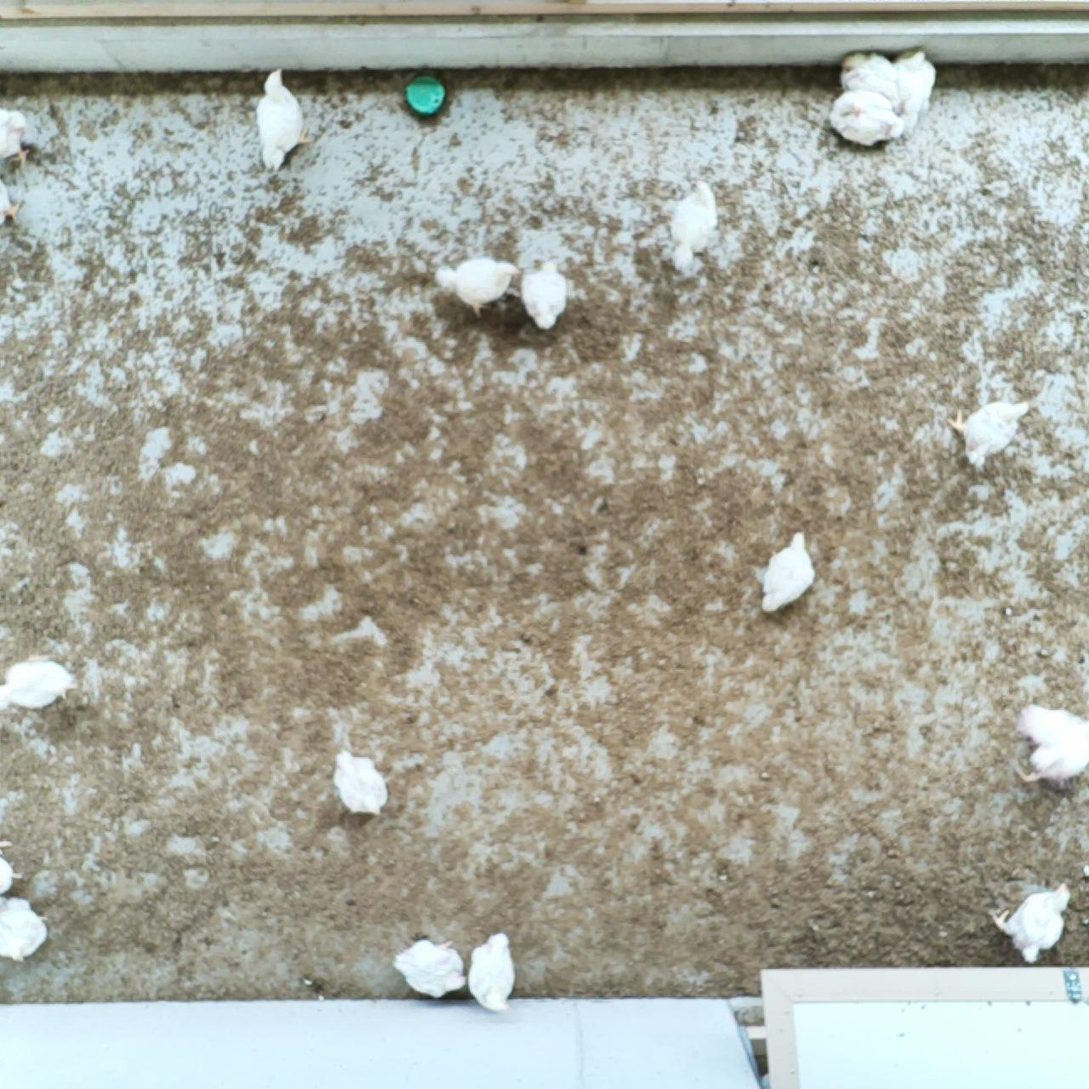chicken: (987, 877, 1077, 967), (252, 62, 318, 182), (1007, 699, 1089, 790), (946, 392, 1035, 475), (430, 250, 522, 324), (462, 927, 528, 1016), (0, 648, 79, 721), (826, 83, 908, 152), (754, 527, 819, 614), (391, 934, 471, 1004), (667, 175, 720, 278), (328, 742, 392, 824), (889, 45, 940, 143), (838, 47, 901, 118), (518, 252, 570, 332), (0, 892, 50, 967), (0, 104, 37, 170), (0, 176, 31, 237)
